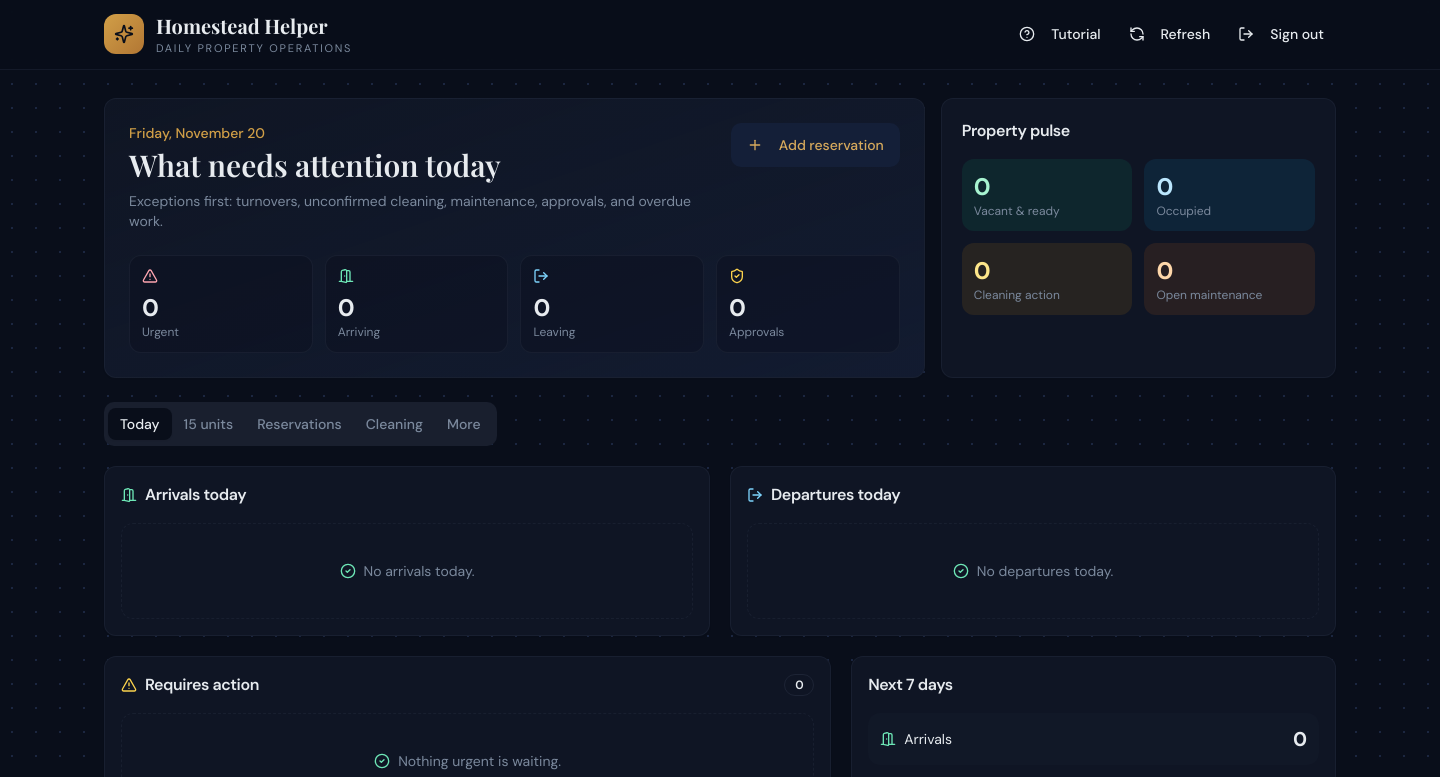
Test: Operations navigation › turns summary cards into useful navigation
The width and height of the screenshot is (1440, 777).
Click the button "0 Cleaning action": (1047, 278) 962,242 -> 1132,314
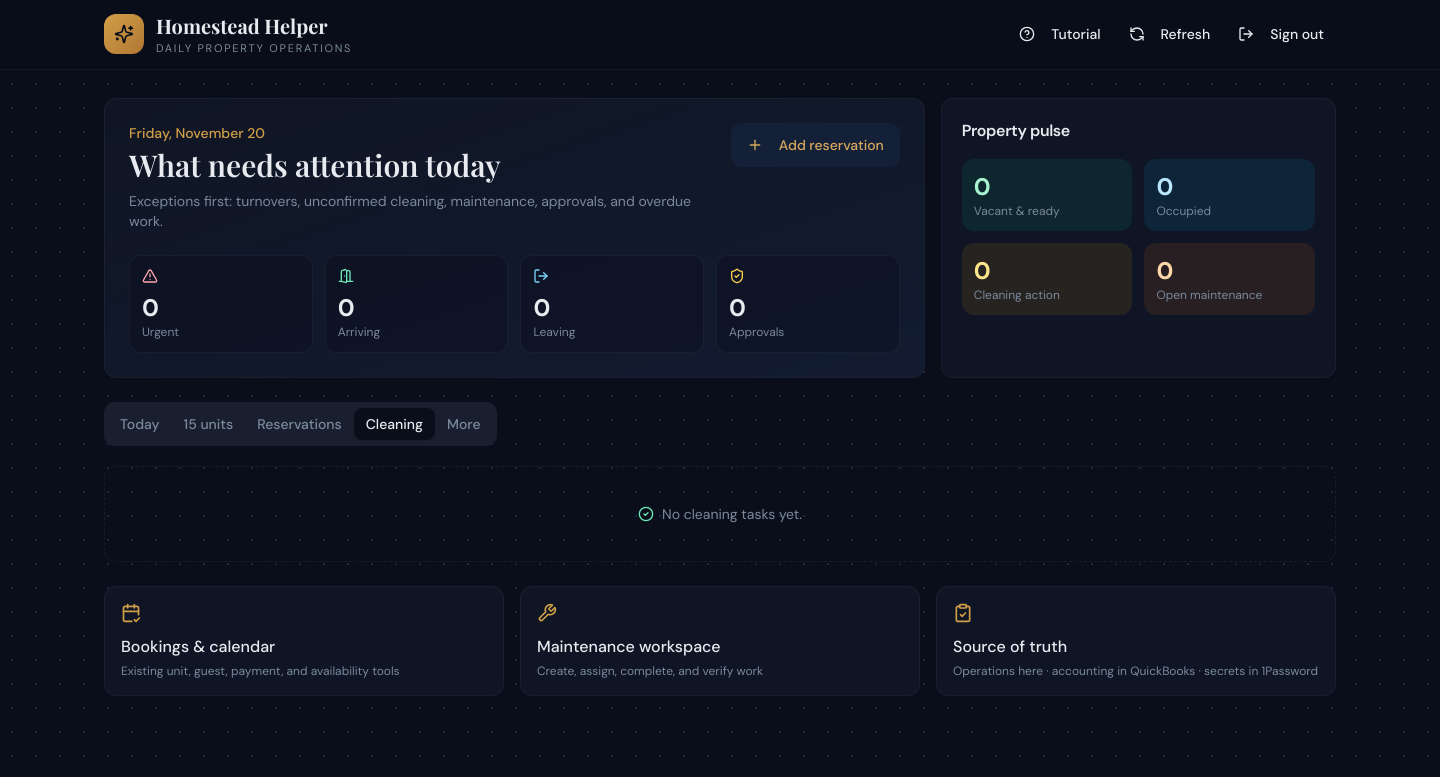
Check: the text "No cleaning tasks yet." is shown, box 104,466 -> 1336,562
